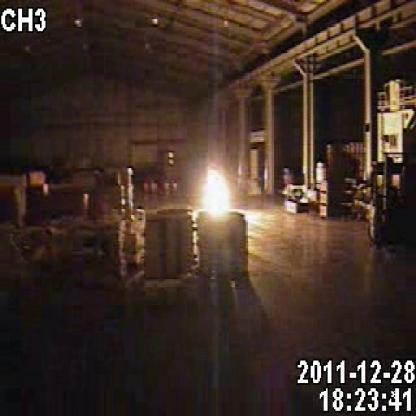fire: (190, 142, 253, 237)
